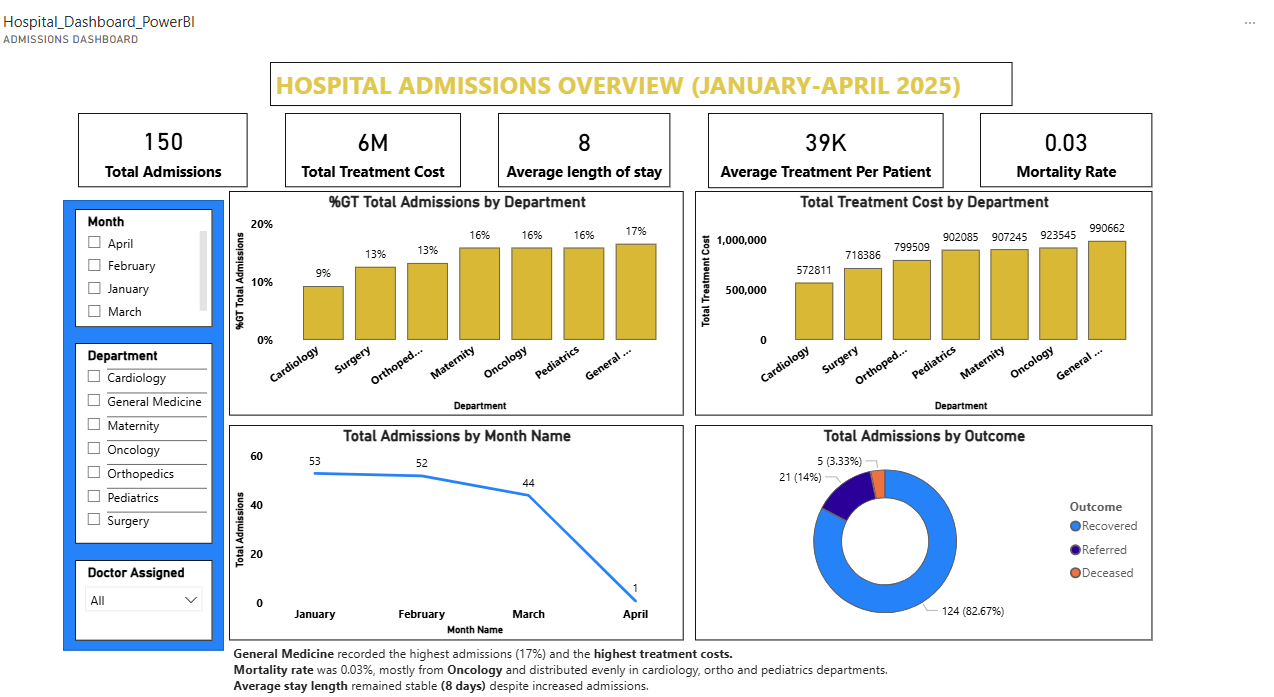

The page's visual inventory and layout, read from the dashboard file:
{"tool":"powerbi","page":{"name":"Admissions Dashboard","canvas":[1280,720],"ordinal":0},"visuals":[{"type":"shape","box":[239.1,16.1,809.6,48.4],"z":0},{"type":"card","fields":{"Values":["HospitalData.Total Admissions"]},"box":[29,72,185.4,80.6],"z":1000,"group":"g1"},{"type":"shape","box":[13.4,166.6,175.5,491.6],"z":1000},{"type":"card","fields":{"Values":["HospitalData.Total Treatment Cost"]},"box":[254.9,72,191.6,81.5],"z":2000,"group":"g1"},{"type":"group","id":"g1","title":"Group 1","box":[29,72,1172.2,82.4],"z":2000},{"type":"card","fields":{"Values":["HospitalData.Average length of stay"]},"box":[487.1,72.4,188.1,81.5],"z":3000,"group":"g1"},{"type":"clusteredColumnChart","fields":{"Category":["HospitalData.Department"],"Y":["HospitalData.Total Admissions"]},"box":[194.3,156.7,496.1,245.4],"z":3000},{"type":"card","fields":{"Values":["HospitalData.Average Treatment Per Patient"]},"box":[715.8,72,257,82.4],"z":4000,"group":"g1"},{"type":"clusteredColumnChart","fields":{"Category":["HospitalData.Department"],"Y":["HospitalData.Total Treatment Cost"]},"box":[703,156.7,498.8,245.4],"z":4000},{"type":"card","fields":{"Values":["HospitalData.Mortality Rate"]},"box":[1013.1,72,188.1,81.5],"z":5000,"group":"g1"},{"type":"textbox","box":[239.1,16.1,809.6,48.4],"z":5000},{"type":"lineChart","fields":{"Category":["HospitalData.Month Name"],"Y":["HospitalData.Total Admissions"]},"box":[194.3,412.8,496.1,234.6],"z":6000},{"type":"donutChart","fields":{"Category":["HospitalData.Outcome"],"Y":["HospitalData.Total Admissions"]},"box":[703,412.8,498.8,234.6],"z":7000},{"type":"slicer","fields":{"Values":["HospitalData.Doctor Assigned"]},"box":[26,559.7,150.4,87.8],"z":8000},{"type":"slicer","fields":{"Values":["HospitalData.Department"]},"box":[26,323.3,150.4,219.4],"z":9000},{"type":"slicer","fields":{"Values":["HospitalData.Month Name"]},"box":[26,176.4,150.4,129],"z":10000},{"type":"textbox","box":[194.3,647.5,1006.6,63.6],"z":10001}]}

Visuals, with their boxes in screenshot pixels (x1, y1, x2, y2):
shape: box(266, 58, 1012, 102)
card - HospitalData.Total Admissions: box(73, 109, 244, 183)
shape: box(59, 196, 220, 649)
card - HospitalData.Total Treatment Cost: box(281, 109, 457, 184)
"Group 1" group: box(73, 109, 1152, 185)
card - HospitalData.Average length of stay: box(495, 110, 668, 185)
clusteredColumnChart - HospitalData.Department x HospitalData.Total Admissions: box(225, 187, 682, 413)
card - HospitalData.Average Treatment Per Patient: box(705, 109, 942, 185)
clusteredColumnChart - HospitalData.Department x HospitalData.Total Treatment Cost: box(694, 187, 1153, 413)
card - HospitalData.Mortality Rate: box(979, 109, 1152, 184)
textbox: box(266, 58, 1012, 102)
lineChart - HospitalData.Month Name x HospitalData.Total Admissions: box(225, 423, 682, 639)
donutChart - HospitalData.Outcome x HospitalData.Total Admissions: box(694, 423, 1153, 639)
slicer - HospitalData.Doctor Assigned: box(70, 558, 209, 639)
slicer - HospitalData.Department: box(70, 341, 209, 543)
slicer - HospitalData.Month Name: box(70, 205, 209, 324)
textbox: box(225, 639, 1152, 696)
